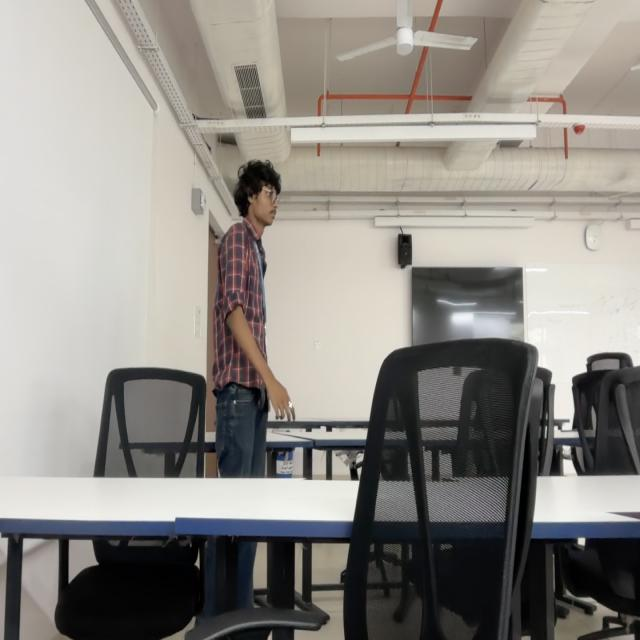darshan: (235, 160, 282, 230)
